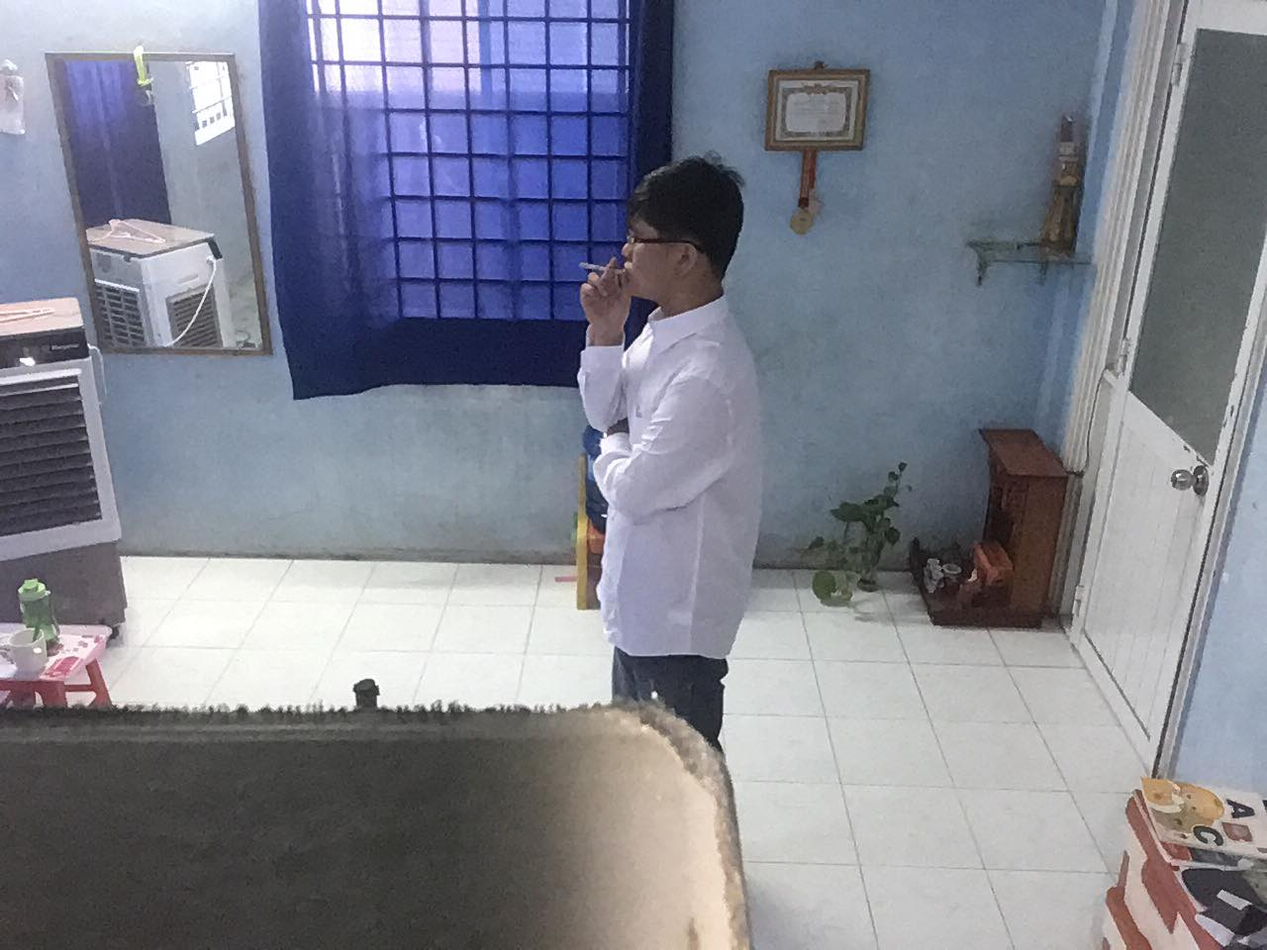cigarette: (577, 256, 634, 284)
person: (540, 136, 791, 754)
